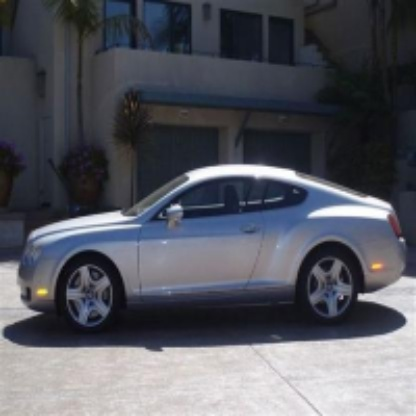Vehicle: (17, 165, 408, 335)
